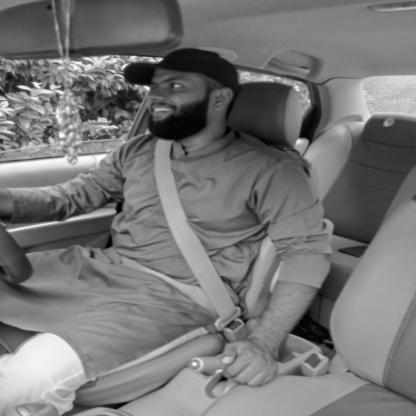seatbelt: (108, 37, 253, 284)
